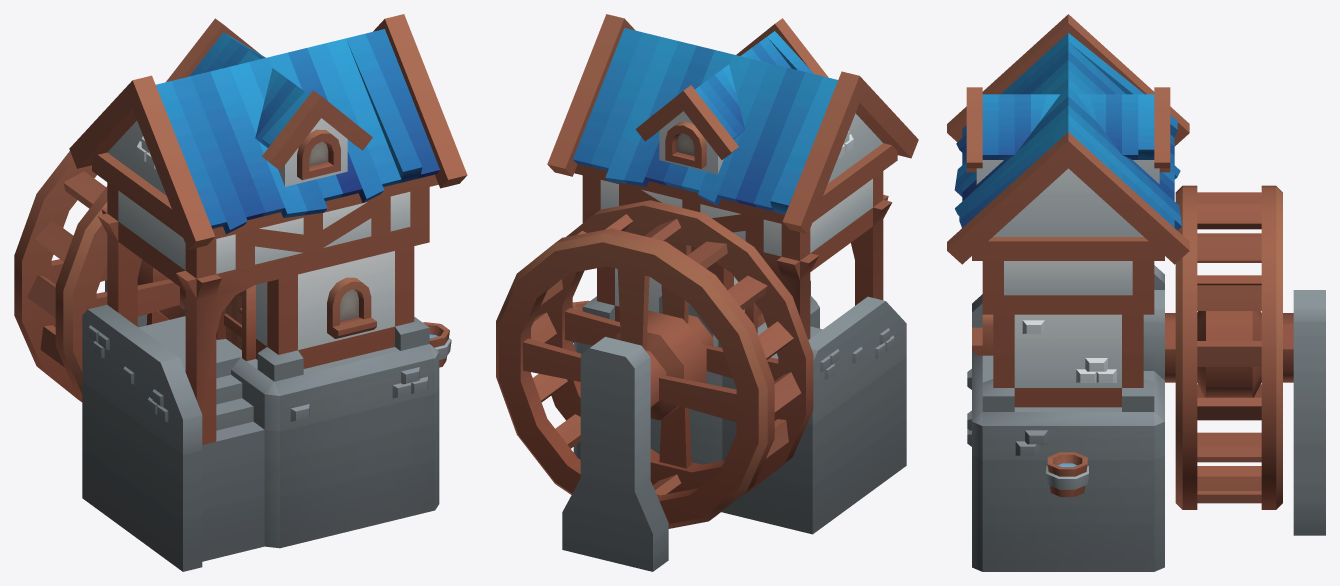
File: building_watermill_blue.glb
3 views of the same model, side by side, from view 1: azimuth 30°, elevation 25°; view 2: azimuth 150°, elevation 25°; view 3: azimuth 270°, elevation 25° (orthographic). The views are drawn at different scales.
Parts seen in each view (by area): view 1: building_watermill_blue, building_watermill_wheel_blue; view 2: building_watermill_blue, building_watermill_wheel_blue; view 3: building_watermill_blue, building_watermill_wheel_blue.
Boxes of the visible parts, left/top/right/bottom form: building_watermill_blue: left=69, top=14, right=467, bottom=571; building_watermill_wheel_blue: left=14, top=151, right=185, bottom=402; building_watermill_blue: left=547, top=14, right=918, bottom=571; building_watermill_wheel_blue: left=496, top=200, right=813, bottom=528; building_watermill_blue: left=947, top=14, right=1325, bottom=571; building_watermill_wheel_blue: left=1165, top=185, right=1293, bottom=509.
Size of the model in its own units: 1.17 by 1.57 by 1.24.
Materials: 1 (1 with a texture image).
